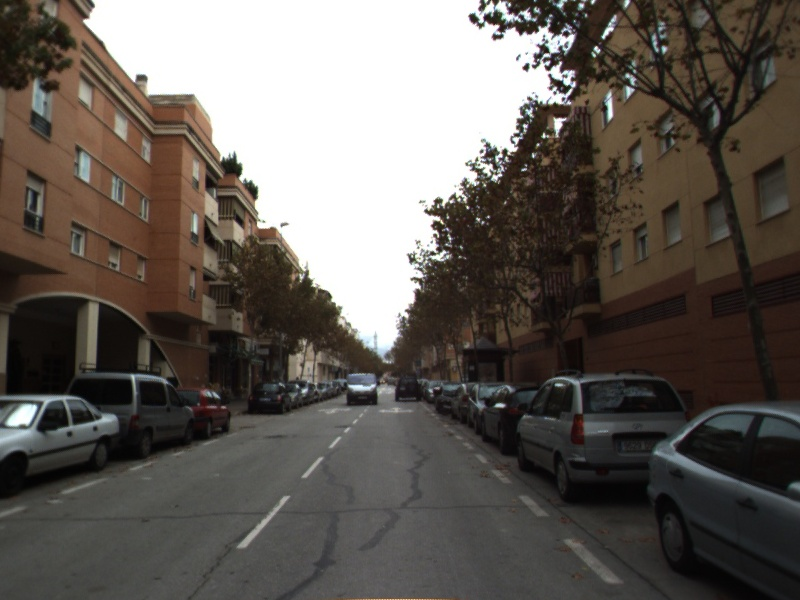STRAIGHT_LEFT_RIGHT: (376, 404, 417, 416)
